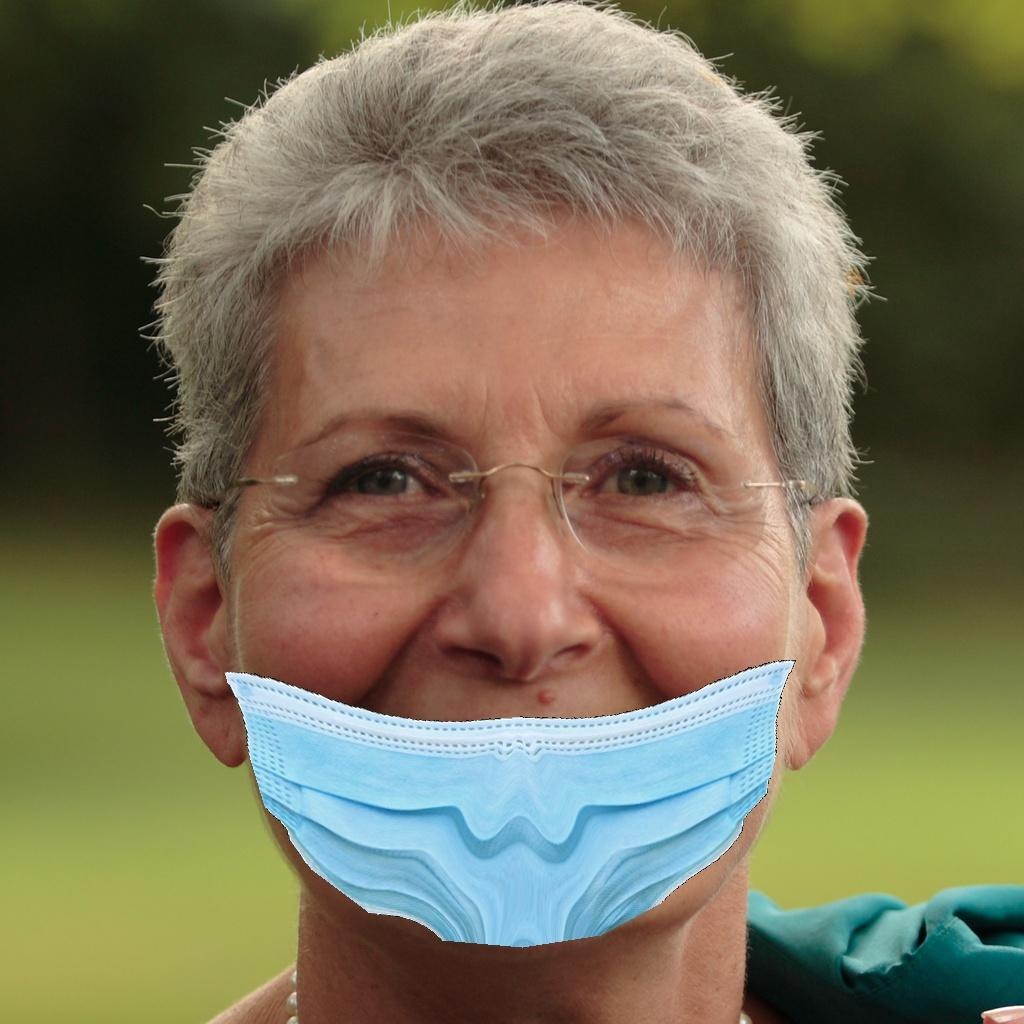Máscara Incorreta: (200, 276, 848, 952)
